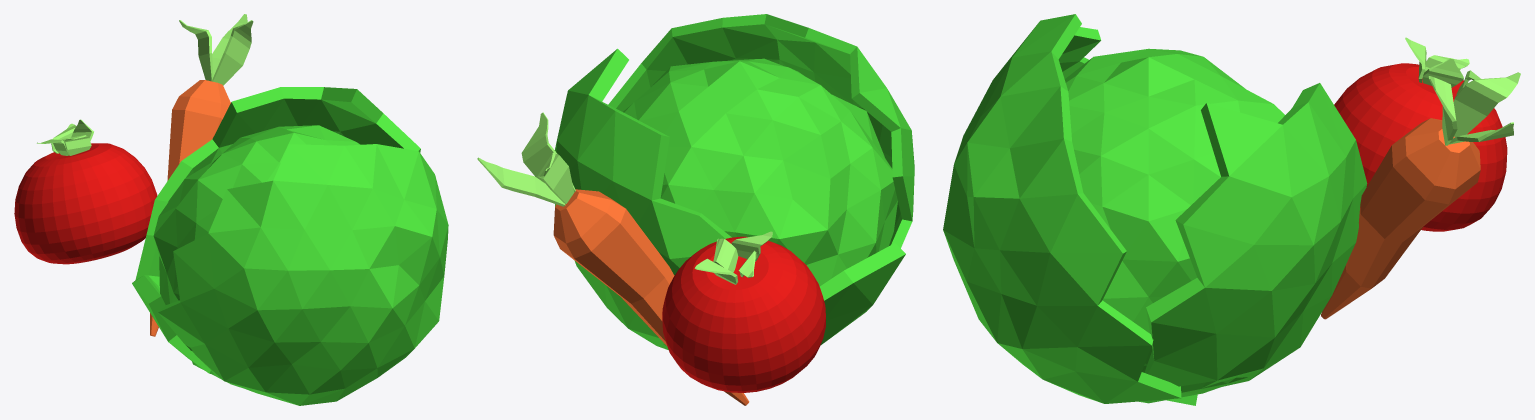
The model's file is Vegetables_Model.fbx.
3 views of the same model, side by side, from view 1: azimuth 30°, elevation 25°; view 2: azimuth 150°, elevation 25°; view 3: azimuth 270°, elevation 25° (orthographic). The views are drawn at different scales.
Visible parts, largest first — view 1: right lettuce leaf, Tomato.001, left lettuce leaf, Head o lettuce, Carrot, Leaves, Leaves.002, Leaves.001, Leaves.005; view 2: Head o lettuce, left lettuce leaf, Tomato.001, right lettuce leaf, Carrot, Leaves.001, Leaves, Leaves.002, Leaves.005, Leaves.004, Leaves.006; view 3: right lettuce leaf, left lettuce leaf, Head o lettuce, Carrot, Tomato.001, Leaves.002, Leaves, Leaves.004, Leaves.001.
Part boxes in pixels (x1=…): right lettuce leaf: x1=158, y1=144, x2=448, y2=405; Tomato.001: x1=14, y1=143, x2=157, y2=264; left lettuce leaf: x1=132, y1=87, x2=420, y2=374; Head o lettuce: x1=153, y1=125, x2=360, y2=387; Carrot: x1=150, y1=80, x2=230, y2=336; Leaves: x1=212, y1=20, x2=253, y2=85; Leaves.002: x1=179, y1=20, x2=213, y2=81; Leaves.001: x1=212, y1=14, x2=251, y2=76; Leaves.005: x1=62, y1=135, x2=91, y2=155; Head o lettuce: x1=623, y1=58, x2=897, y2=345; left lettuce leaf: x1=554, y1=48, x2=905, y2=349; Tomato.001: x1=662, y1=236, x2=825, y2=392; right lettuce leaf: x1=608, y1=14, x2=914, y2=248; Carrot: x1=553, y1=189, x2=749, y2=405; Leaves.001: x1=477, y1=157, x2=565, y2=206; Leaves: x1=521, y1=112, x2=575, y2=191; Leaves.002: x1=537, y1=152, x2=574, y2=203; Leaves.005: x1=731, y1=231, x2=772, y2=261; Leaves.004: x1=713, y1=238, x2=738, y2=272; Leaves.006: x1=694, y1=258, x2=737, y2=284; right lettuce leaf: x1=943, y1=14, x2=1197, y2=405; left lettuce leaf: x1=1144, y1=83, x2=1367, y2=387; Head o lettuce: x1=1064, y1=48, x2=1284, y2=403; Carrot: x1=1321, y1=118, x2=1480, y2=319; Tomato.001: x1=1334, y1=63, x2=1507, y2=231; Leaves.002: x1=1453, y1=72, x2=1520, y2=136; Leaves: x1=1428, y1=76, x2=1457, y2=145; Leaves.004: x1=1422, y1=58, x2=1463, y2=87; Leaves.001: x1=1449, y1=122, x2=1513, y2=144.
Bounding box in the file's own units: 260 × 218 × 320.
